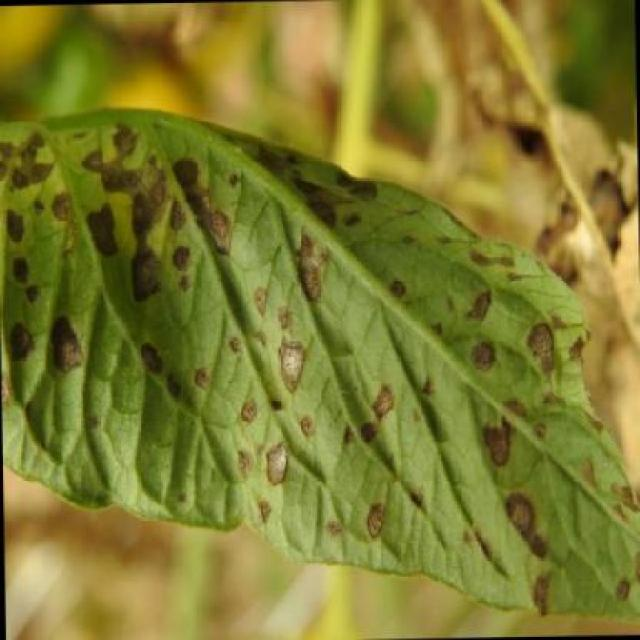Septoria leaf spot: (0, 65, 640, 629)
